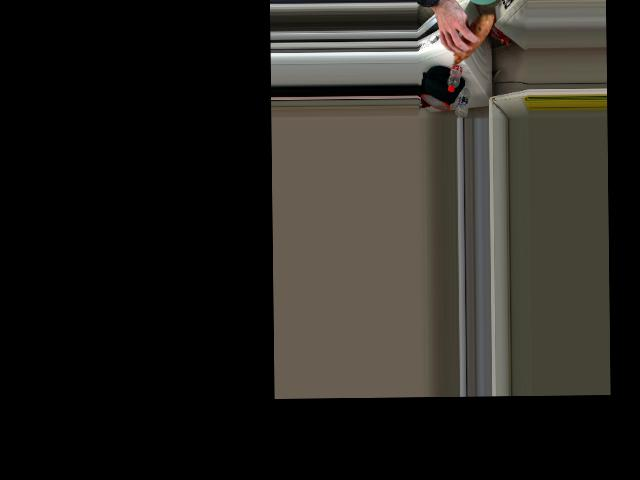sweet_potato: (442, 20, 492, 62)
